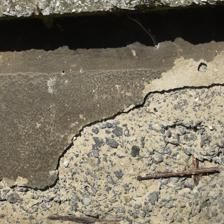Crack: (14, 84, 224, 192), (198, 61, 210, 76)
